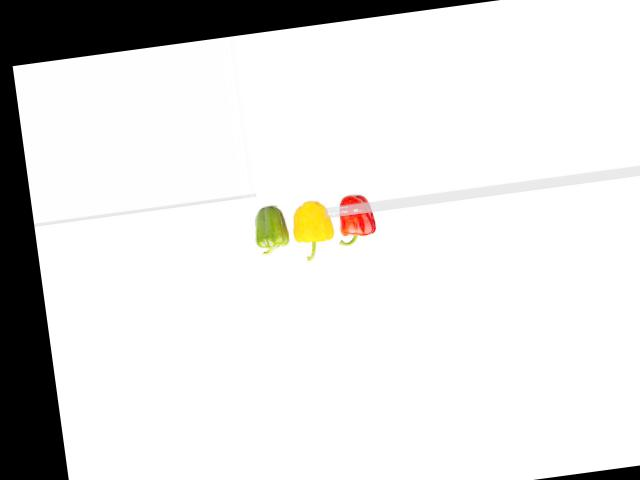bell_pepper: (246, 200, 290, 263)
